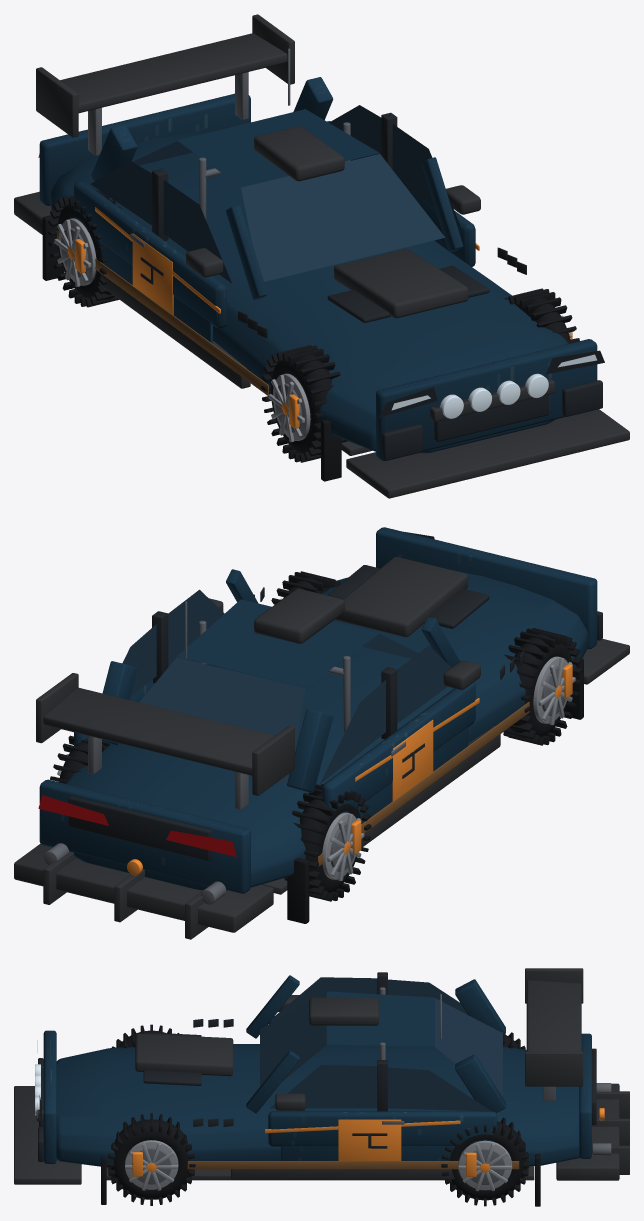
File: bavarian_gt_r_v2.glb
3 renders of one model, top to bottom at view 1: azimuth 30°, elevation 25°; view 2: azimuth 150°, elevation 25°; view 3: azimuth 270°, elevation 25°, orthographic. The views are drawn at different scales.
Parts seen in each view (by area): view 1: STATIC_GT2_Paint_Textured, STATIC_GT2_Carbon, STATIC_GT2_Glass, STATIC_GT2_Plastic, Wheel_FL_GT2_Rubber, Wheel_RL_GT2_Rubber, STATIC_GT2_Accent, STATIC_GT2_Lamp, STATIC_GT2_Steel, STATIC_GT2_Dust, STATIC_GT2_Rubber, Wheel_FR_GT2_Rubber (+2 smaller); view 2: STATIC_GT2_Paint_Textured, STATIC_GT2_Carbon, STATIC_GT2_Glass, STATIC_GT2_Plastic, Wheel_FL_GT2_Rubber, Wheel_RL_GT2_Rubber, STATIC_GT2_Steel, STATIC_GT2_Accent, STATIC_GT2_Dust, STATIC_GT2_Rubber, STATIC_GT2_Tail, Wheel_FL_GT2_Alloy (+3 smaller); view 3: STATIC_GT2_Paint_Textured, STATIC_GT2_Carbon, STATIC_GT2_Glass, Wheel_FR_GT2_Rubber, STATIC_GT2_Plastic, STATIC_GT2_Accent, Wheel_RR_GT2_Rubber, STATIC_GT2_Dust, Wheel_RR_GT2_Alloy, Wheel_FR_GT2_Alloy, STATIC_GT2_Steel, STATIC_GT2_Rubber (+5 smaller).
Boxes of the visible parts, <box> form: STATIC_GT2_Paint_Textured: <box>39,77,597,460</box>; STATIC_GT2_Carbon: <box>14,14,629,498</box>; STATIC_GT2_Glass: <box>90,105,460,283</box>; STATIC_GT2_Plastic: <box>140,112,604,460</box>; Wheel_FL_GT2_Rubber: <box>261,345,347,462</box>; Wheel_RL_GT2_Rubber: <box>47,189,121,307</box>; STATIC_GT2_Accent: <box>95,207,479,314</box>; STATIC_GT2_Lamp: <box>391,354,596,418</box>; STATIC_GT2_Steel: <box>88,48,350,248</box>; STATIC_GT2_Dust: <box>57,230,268,395</box>; STATIC_GT2_Rubber: <box>42,215,341,481</box>; Wheel_FR_GT2_Rubber: <box>504,288,579,343</box>; STATIC_GT2_Paint_Textured: <box>39,527,597,893</box>; STATIC_GT2_Carbon: <box>14,556,629,939</box>; STATIC_GT2_Glass: <box>122,589,451,783</box>; STATIC_GT2_Plastic: <box>68,531,602,860</box>; Wheel_FL_GT2_Rubber: <box>503,628,582,745</box>; Wheel_RL_GT2_Rubber: <box>284,784,371,901</box>; STATIC_GT2_Steel: <box>43,601,405,904</box>; STATIC_GT2_Accent: <box>127,698,479,875</box>; STATIC_GT2_Dust: <box>317,702,529,866</box>; STATIC_GT2_Rubber: <box>287,658,583,923</box>; STATIC_GT2_Tail: <box>38,795,236,856</box>; Wheel_FL_GT2_Alloy: <box>533,656,575,725</box>; STATIC_GT2_Paint_Textured: <box>43,975,591,1167</box>; STATIC_GT2_Carbon: <box>14,968,629,1184</box>; STATIC_GT2_Glass: <box>260,977,502,1111</box>; Wheel_FR_GT2_Rubber: <box>107,1113,195,1205</box>; STATIC_GT2_Plastic: <box>38,972,596,1161</box>; STATIC_GT2_Accent: <box>265,1108,604,1160</box>; Wheel_RR_GT2_Rubber: <box>441,1117,529,1206</box>; STATIC_GT2_Dust: <box>187,1161,519,1169</box>; Wheel_RR_GT2_Alloy: <box>458,1140,512,1191</box>; Wheel_FR_GT2_Alloy: <box>125,1140,178,1190</box>; STATIC_GT2_Steel: <box>379,987,611,1155</box>; STATIC_GT2_Rubber: <box>101,1154,540,1206</box>.
Size of what is drawn, in the model's own units: 2.18 by 1.72 by 5.28.
Materials: 11 (1 with a texture image).
